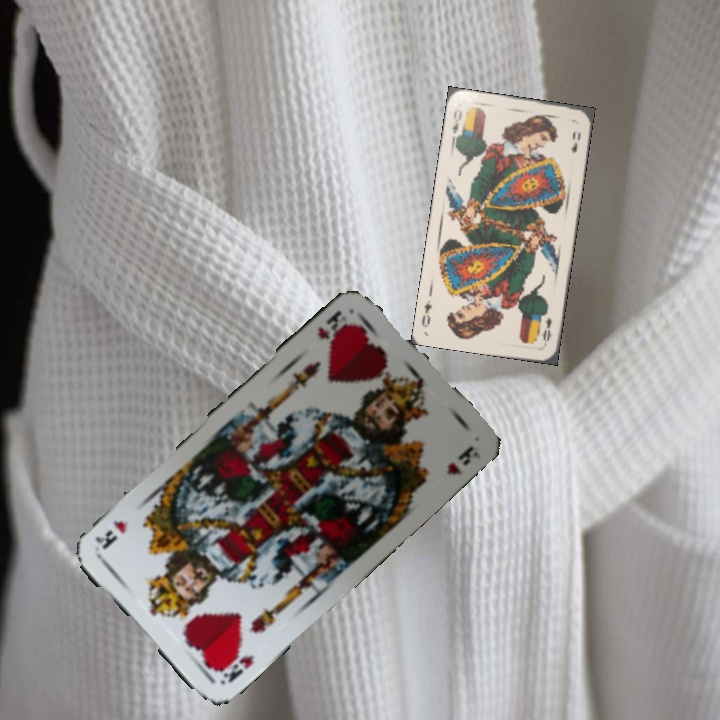EO: (448, 104, 467, 143), (538, 314, 554, 347)
HK: (211, 646, 257, 686), (313, 306, 356, 346)
